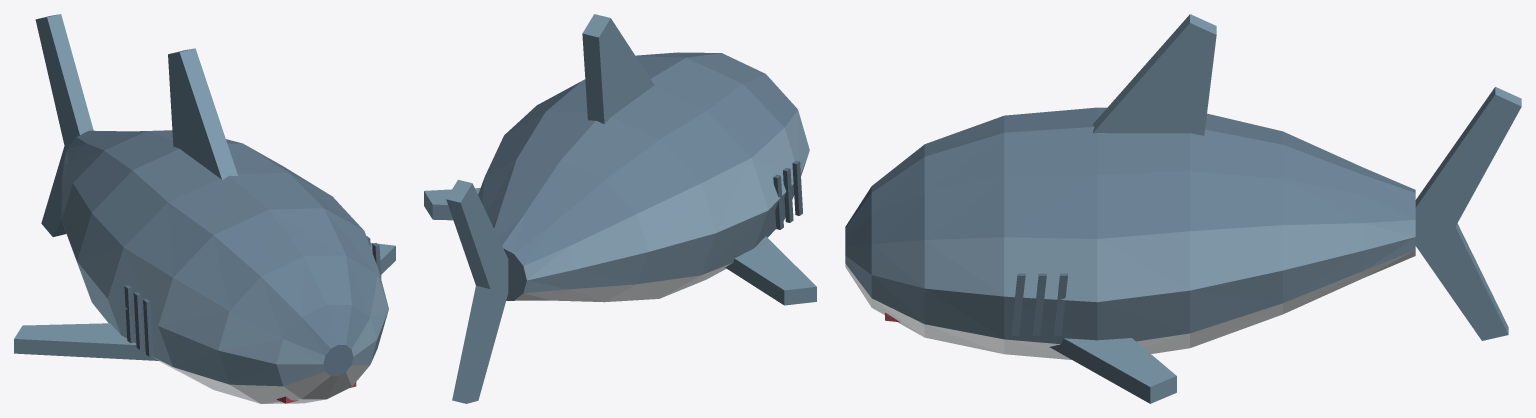
The model's file is Charge.fbx.
3 renders of one model, left to right at view 1: azimuth 30°, elevation 25°; view 2: azimuth 150°, elevation 25°; view 3: azimuth 270°, elevation 25°, orthographic. The views are drawn at different scales.
Parts seen in each view (by area): view 1: Charge; view 2: Charge; view 3: Charge.
Part boxes in pixels (x1=…): Charge: x1=14, y1=14, x2=395, y2=403; Charge: x1=424, y1=14, x2=816, y2=403; Charge: x1=845, y1=14, x2=1521, y2=403.
Size of the model in its own units: 38 by 27 by 51.
